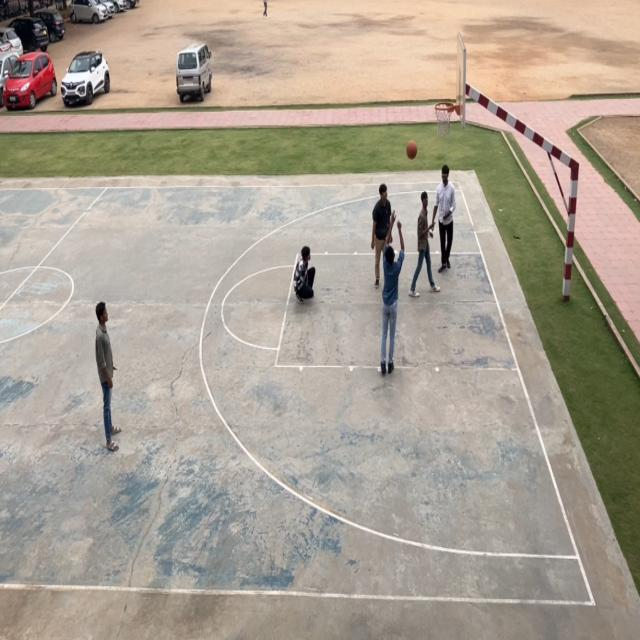basketball: (406, 137, 419, 163)
hoop: (434, 100, 454, 136)
